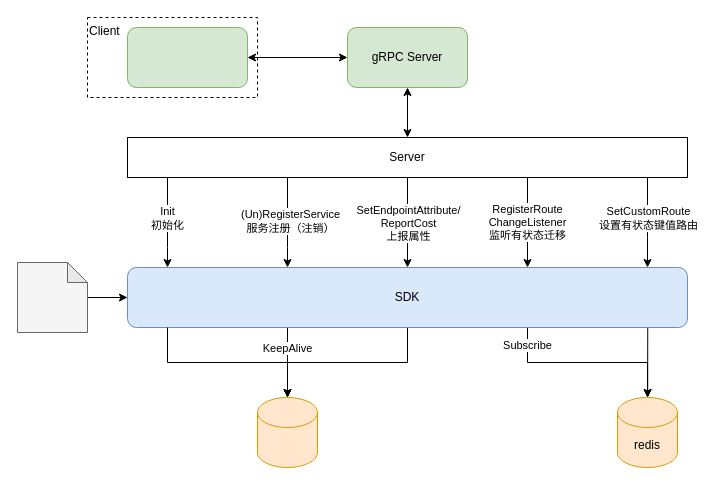
Some shapes in this 715 by 485 pixel diagram are drawn without their labels. The centre of each missing label's shape, as x and y in pixels:
config.yaml: the point at 52,297
etcd: the point at 287,432
gRPC Client: the point at 187,57
